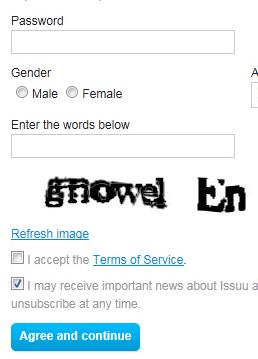button: (10, 322, 142, 351)
checkbox: (10, 274, 28, 294), (9, 248, 26, 266)
checkbox_with_label: (6, 246, 184, 267)
field: (6, 131, 235, 159), (9, 29, 235, 54)
field_with_label: (6, 14, 237, 56), (3, 119, 237, 160)
radio: (15, 86, 32, 100), (65, 86, 81, 100)
radio_with_label: (62, 82, 123, 101), (10, 82, 58, 102)
